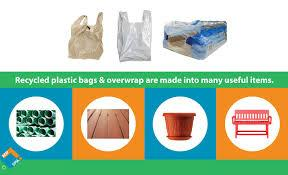Plastic bag: (112, 8, 160, 67), (60, 10, 106, 65)
